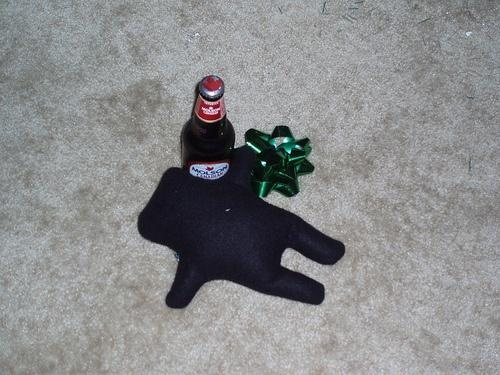bottle: (181, 76, 238, 183)
